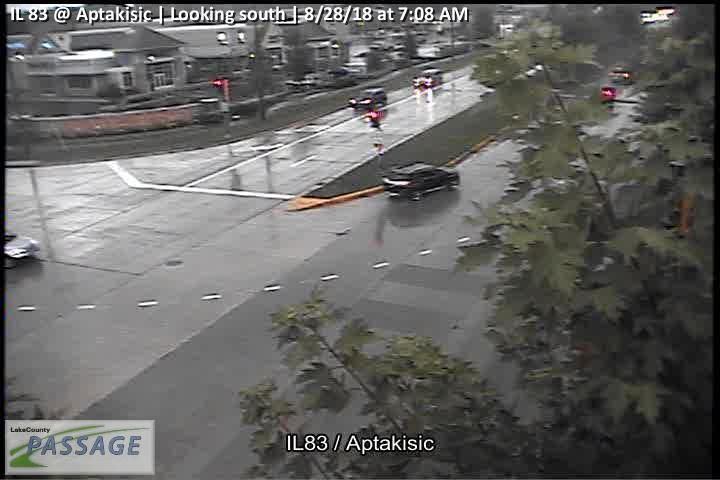SUV: (382, 162, 460, 202), (348, 87, 386, 110), (411, 68, 444, 89)
